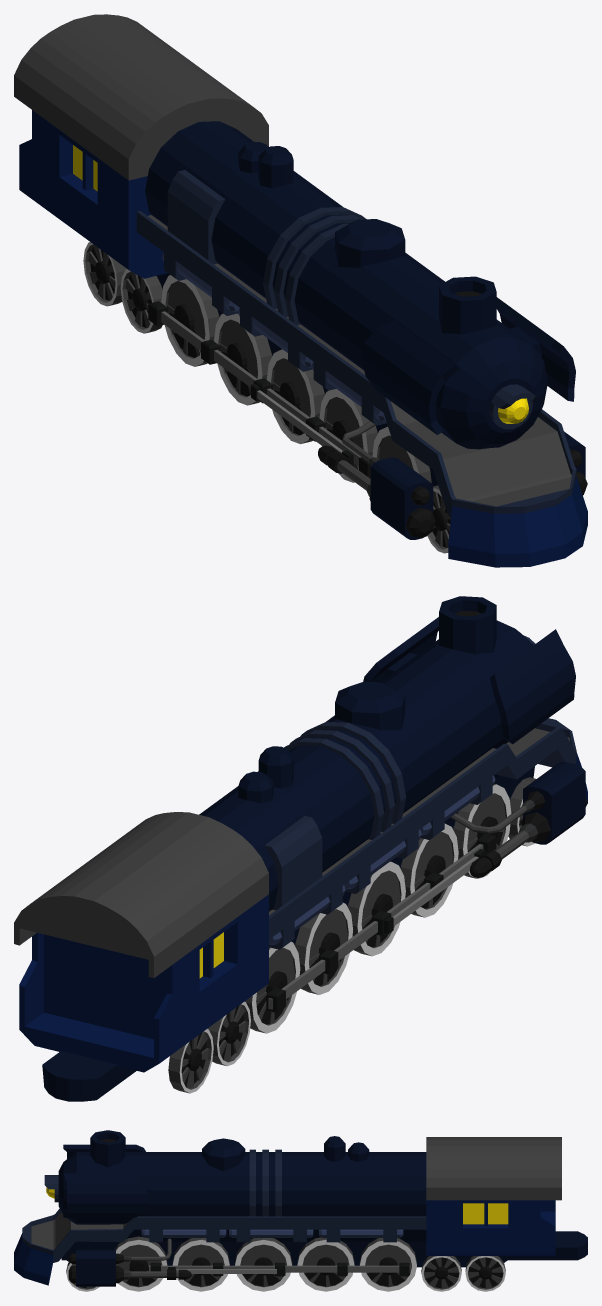
Rendered from Locomotive.fbx.
3 views of the same model, one above another, from view 1: azimuth 30°, elevation 25°; view 2: azimuth 150°, elevation 25°; view 3: azimuth 270°, elevation 25° (orthographic). The views are drawn at different scales.
Visible parts, largest first — view 1: Cylinder, Cube.001, Cube, Cube.006, Cube.002, Cube.007, Cube.003, Cylinder.008, Cylinder.045, Cylinder.044, Cylinder.009, Cylinder.043 (+13 smaller); view 2: Cube.001, Cylinder, Cube, Cube.006, Cube.005, Cube.007, Cube.003, Cube.002, Cylinder.008, Cylinder.044, Cylinder.043, Cylinder.009 (+14 smaller); view 3: Cylinder, Cube.001, Cube, Cube.005, Cube.006, Cylinder.045, Cylinder.044, Cylinder.043, Cylinder.042, Cube.003, Cylinder.001, Cube.002 (+13 smaller).
Boxes of the visible parts, x1,y1,x2,y2 form: Cylinder: [145, 121, 547, 449]; Cube.001: [14, 14, 268, 278]; Cube: [136, 211, 587, 567]; Cube.006: [361, 297, 575, 434]; Cube.002: [370, 431, 585, 539]; Cube.007: [167, 170, 225, 264]; Cube.003: [148, 301, 370, 478]; Cylinder.008: [439, 276, 496, 334]; Cylinder.045: [161, 275, 219, 366]; Cylinder.044: [214, 313, 272, 405]; Cylinder.009: [335, 219, 405, 267]; Cylinder.043: [267, 349, 324, 444]; Cube.001: [14, 812, 268, 1072]; Cylinder: [199, 620, 535, 911]; Cube: [269, 718, 587, 939]; Cube.006: [363, 617, 575, 744]; Cube.005: [42, 766, 534, 1101]; Cube.007: [264, 816, 322, 910]; Cube.003: [266, 834, 496, 1012]; Cube.002: [523, 762, 585, 844]; Cylinder.008: [439, 596, 496, 654]; Cylinder.044: [295, 902, 352, 994]; Cylinder.043: [347, 861, 405, 956]; Cylinder.009: [335, 681, 405, 730]; Cylinder: [44, 1149, 426, 1224]; Cube.001: [426, 1137, 561, 1255]; Cube: [14, 1208, 426, 1285]; Cube.005: [61, 1229, 587, 1267]; Cube.006: [63, 1144, 146, 1217]; Cylinder.045: [359, 1238, 416, 1291]; Cylinder.044: [297, 1237, 354, 1291]; Cylinder.043: [235, 1238, 292, 1291]; Cylinder.042: [172, 1238, 229, 1291]; Cube.003: [149, 1262, 410, 1276]; Cylinder.001: [114, 1236, 167, 1291]; Cube.002: [76, 1249, 115, 1286].
Bounding box in the file's own units: 337 × 422 × 1563.
